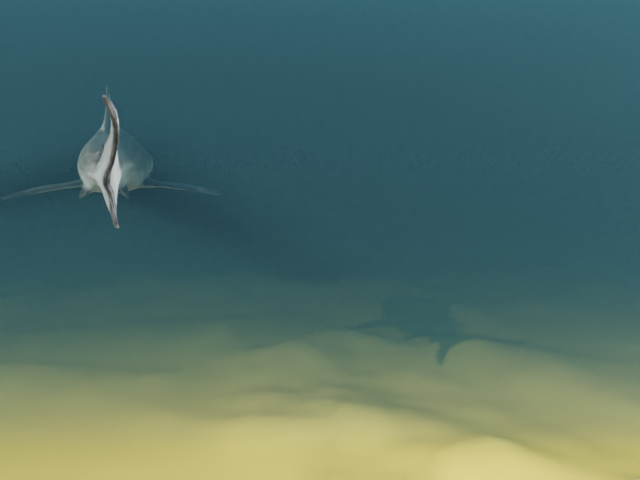Carribean Shark.001: (1, 85, 222, 229)
